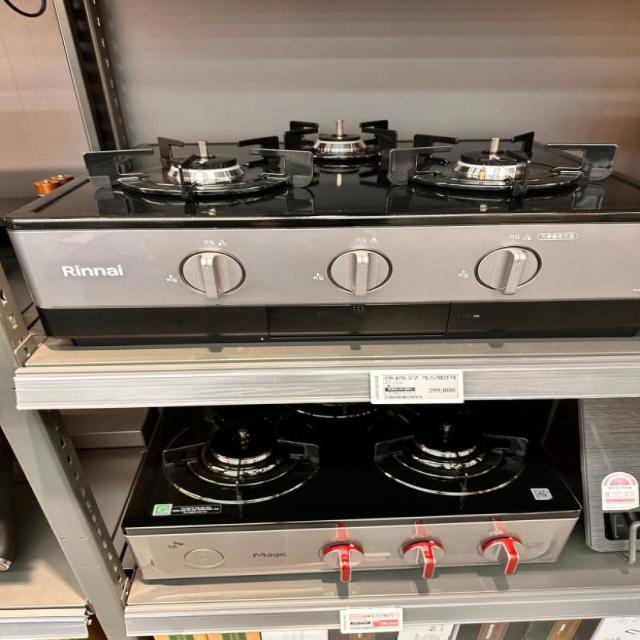knob_OFF: (70, 127, 349, 209), (355, 402, 550, 518), (143, 400, 331, 507), (401, 109, 628, 196), (254, 97, 416, 171)
